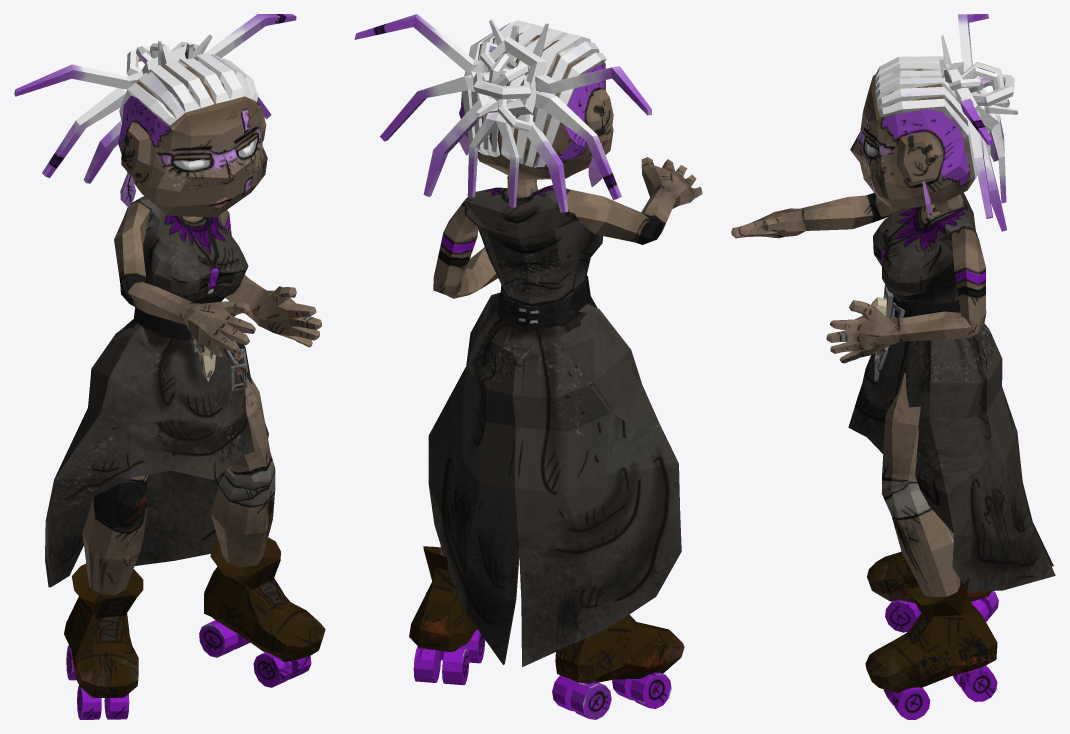
Rendered from bruja_000015.obj.
3 views of the same model, side by side, from view 1: azimuth 30°, elevation 25°; view 2: azimuth 150°, elevation 25°; view 3: azimuth 270°, elevation 25° (orthographic). The views are drawn at different scales.
Visible parts, largest first — view 1: Bruja_Plane.001; view 2: Bruja_Plane.001; view 3: Bruja_Plane.001.
Boxes of the visible parts, x1,y1,x2,y2 form: Bruja_Plane.001: (14, 14, 325, 719); Bruja_Plane.001: (354, 14, 702, 719); Bruja_Plane.001: (731, 14, 1055, 719).
Size of the model in its own units: 7.48 by 16.43 by 7.72.
